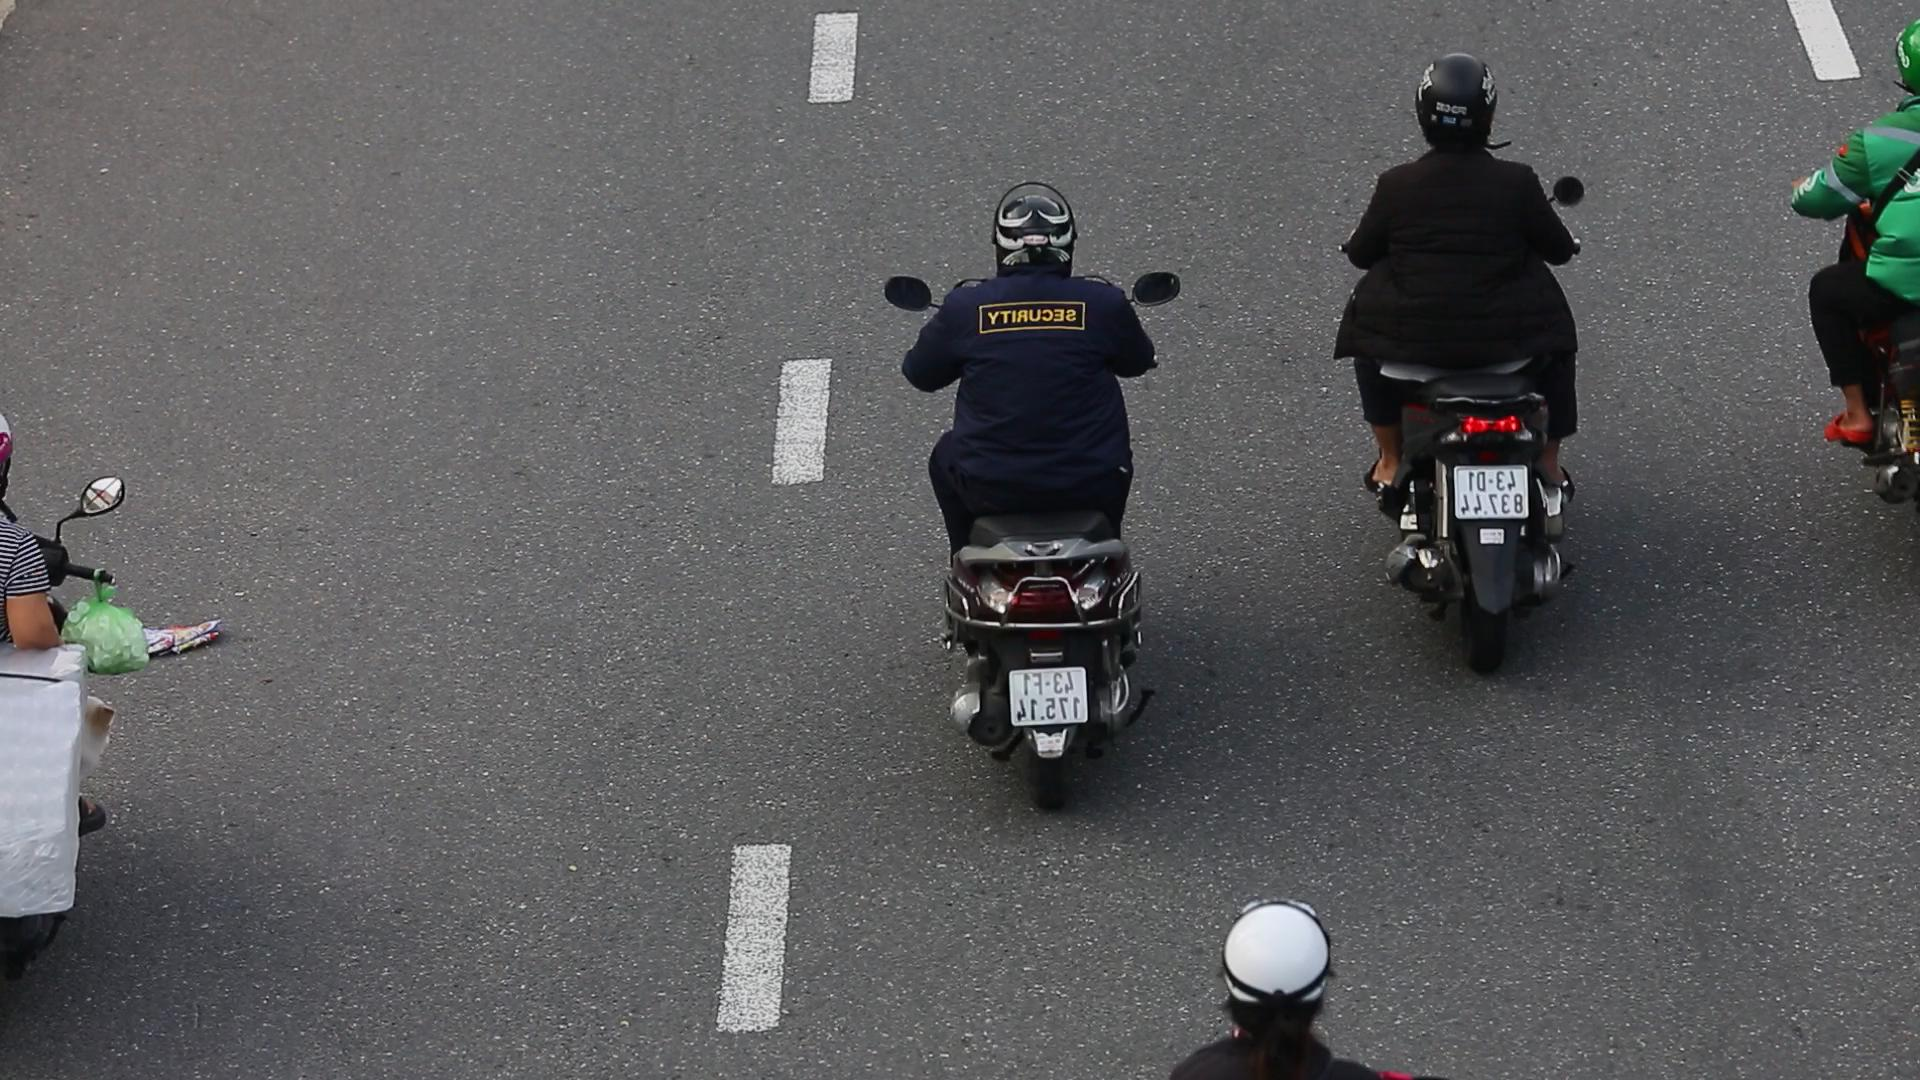motobike: (873, 162, 1201, 822), (1345, 44, 1601, 686)
